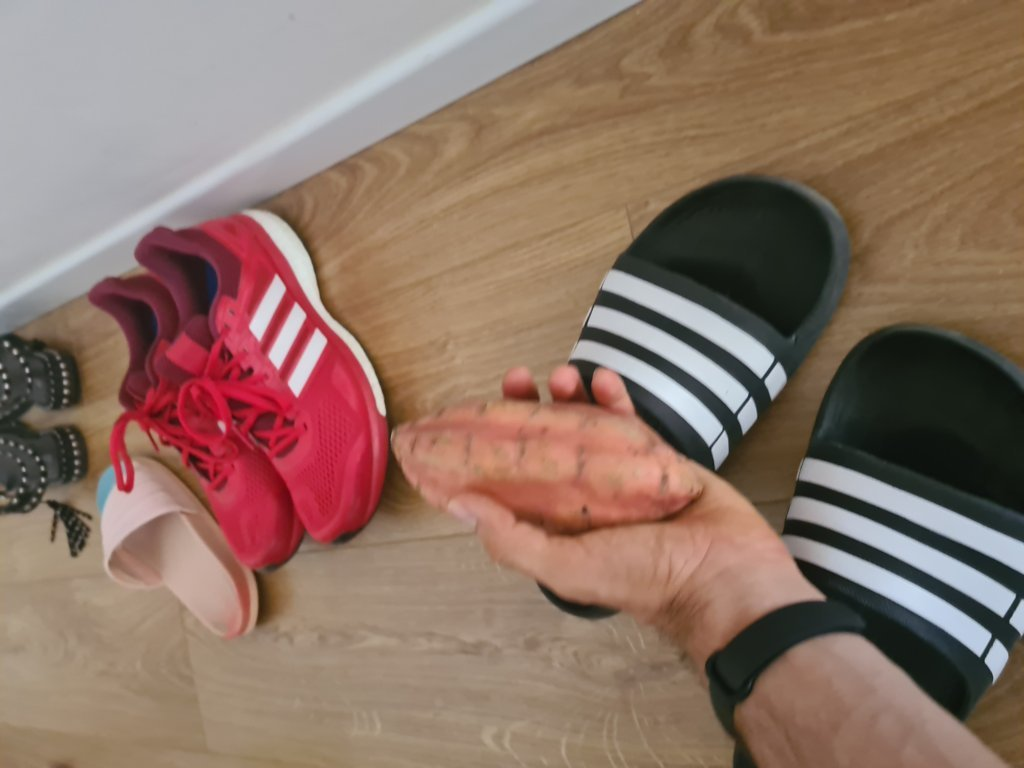Sweet Potatow: (390, 396, 704, 525)
